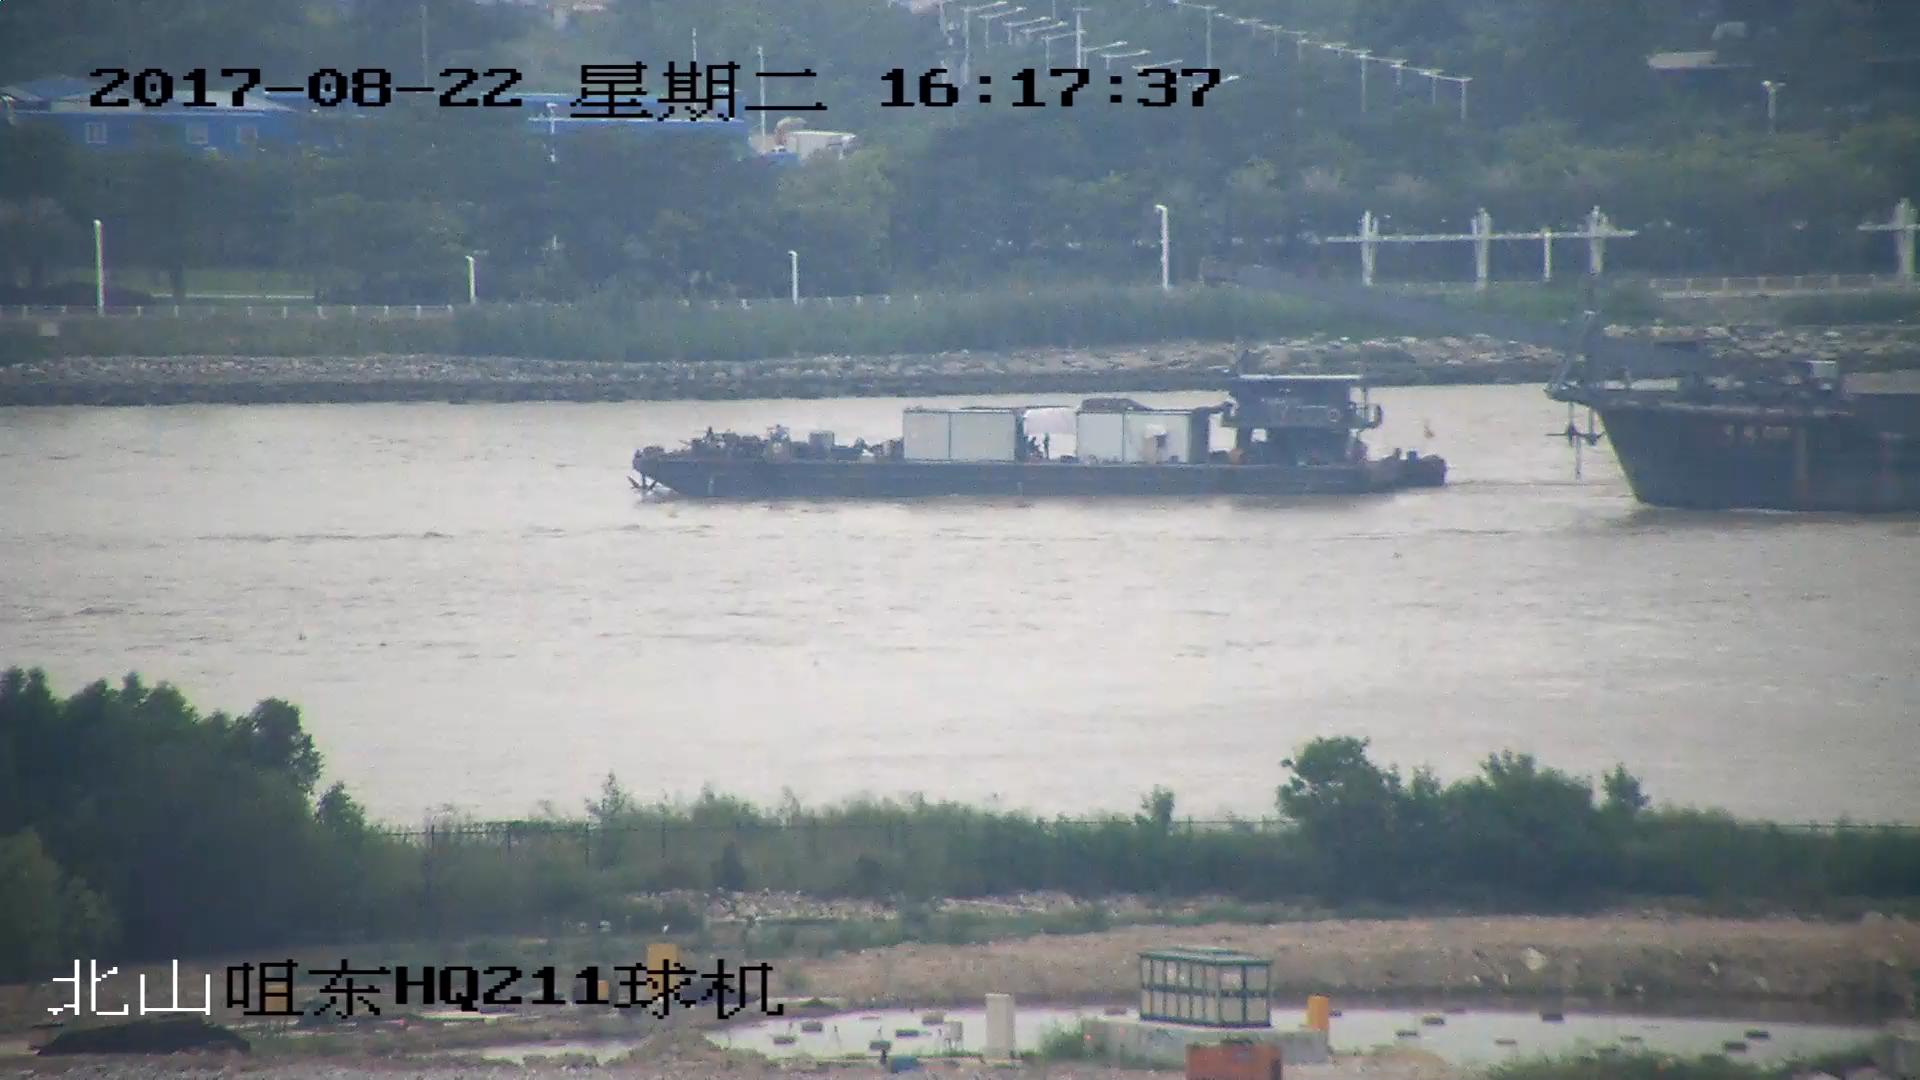bulk cargo carrier: (1199, 256, 1920, 520), (631, 373, 1455, 501)
